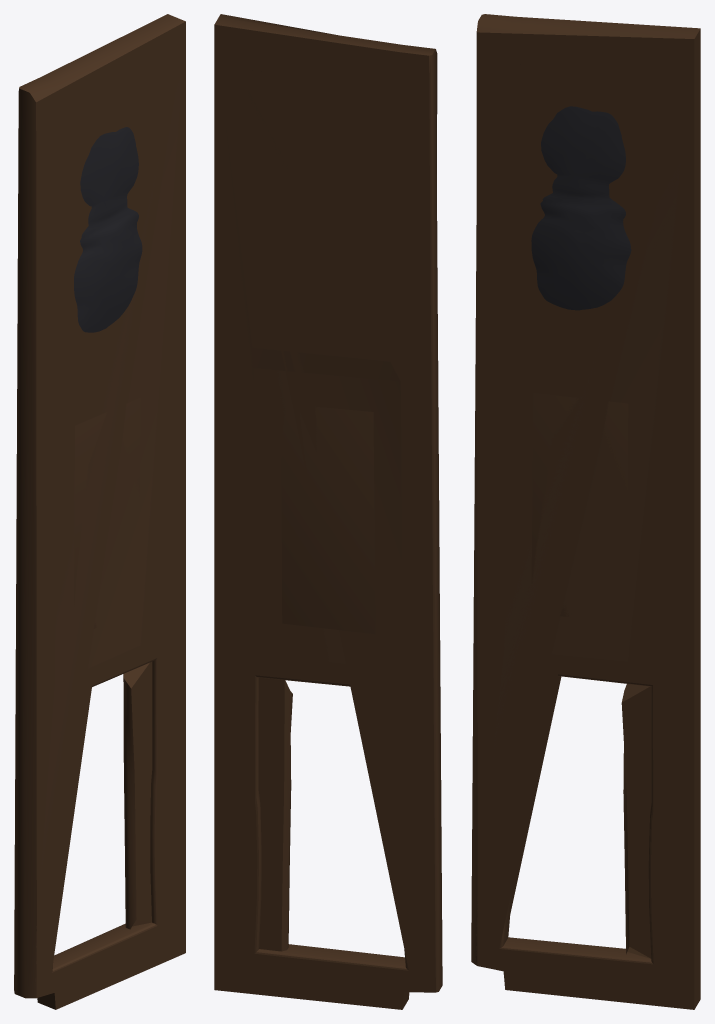
Rendered from Door_LeafRight.obj.
3 renders of one model, left to right at view 1: azimuth 30°, elevation 25°; view 2: azimuth 150°, elevation 25°; view 3: azimuth 330°, elevation 25°, orthographic. The views are drawn at different scales.
Bounding box in the file's own units: 0.4378 × 2.04 × 0.1663.
